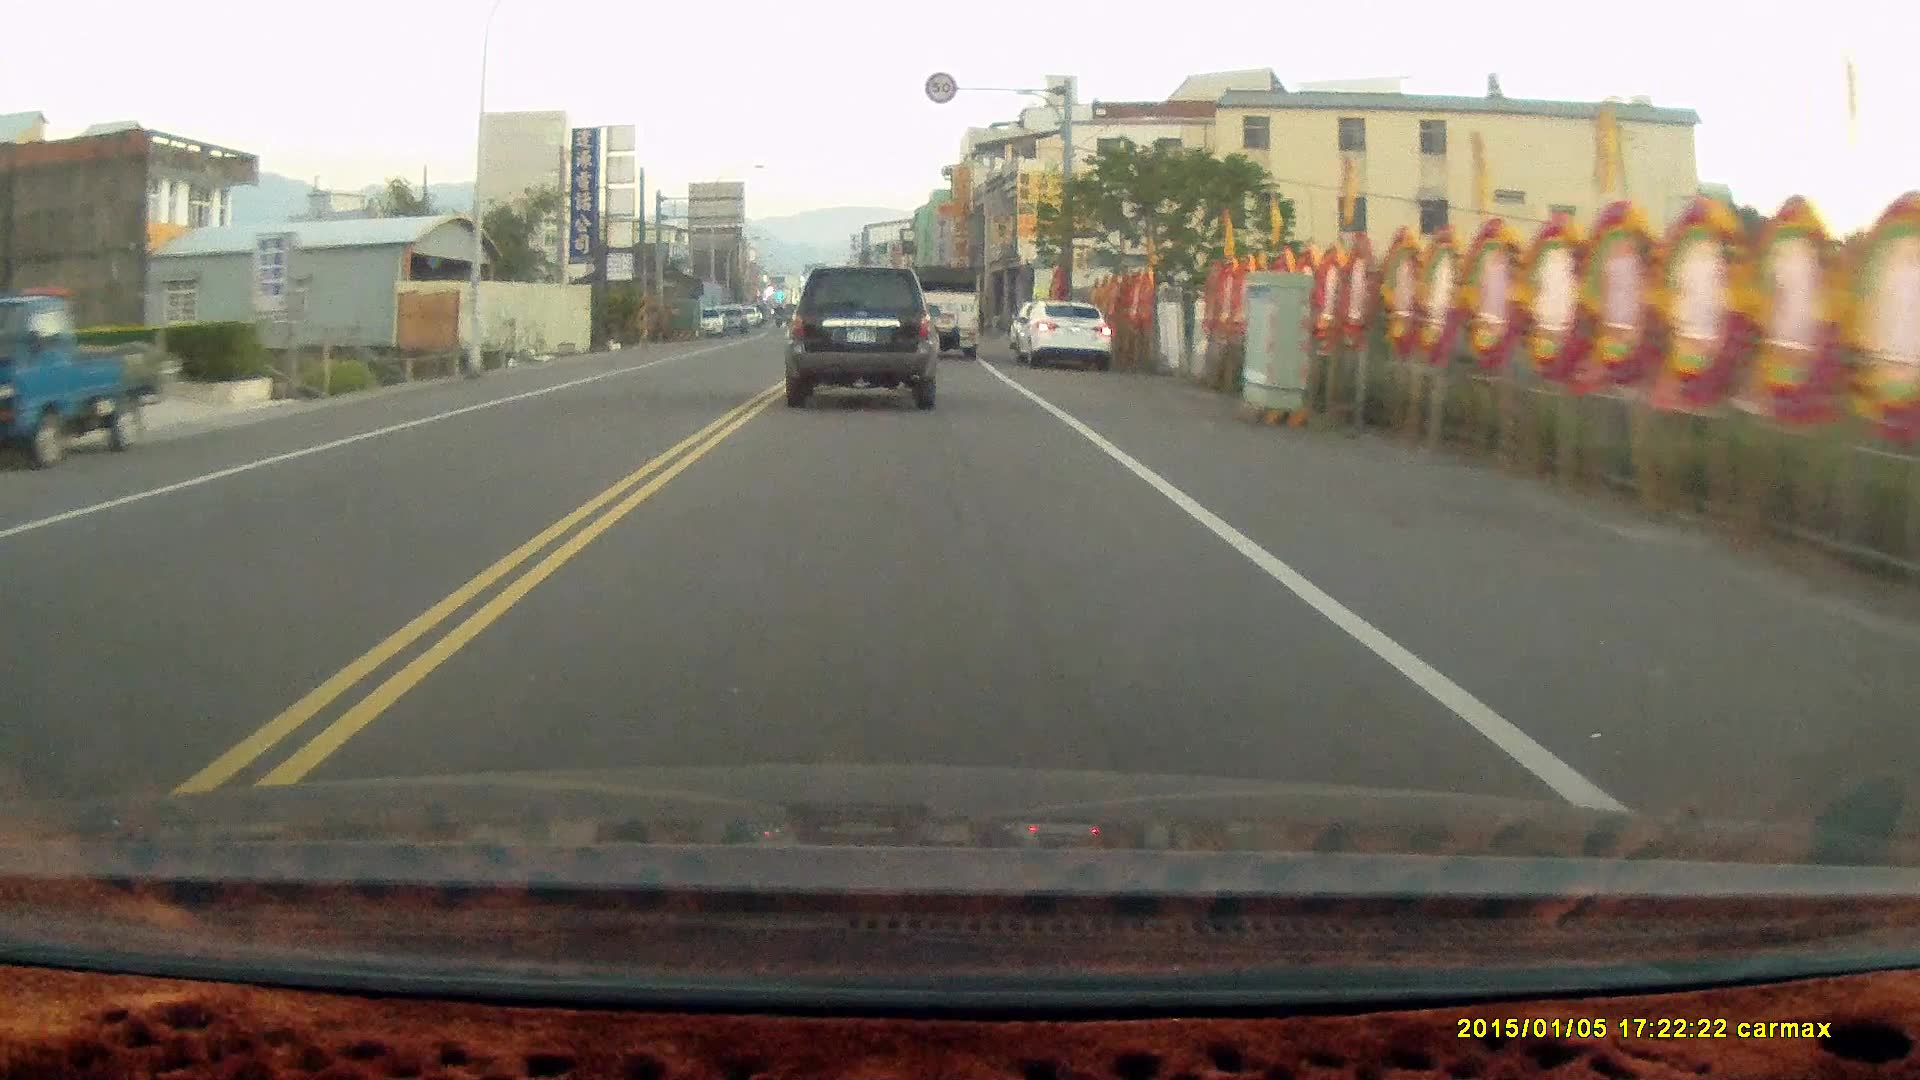vehicle: (1, 289, 162, 473), (785, 258, 938, 405), (909, 262, 984, 363), (1011, 305, 1116, 371)
